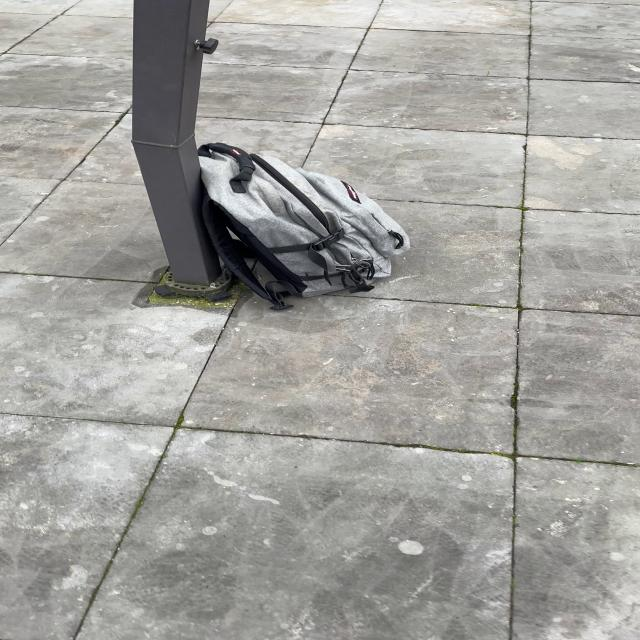backpack: (190, 139, 416, 311)
